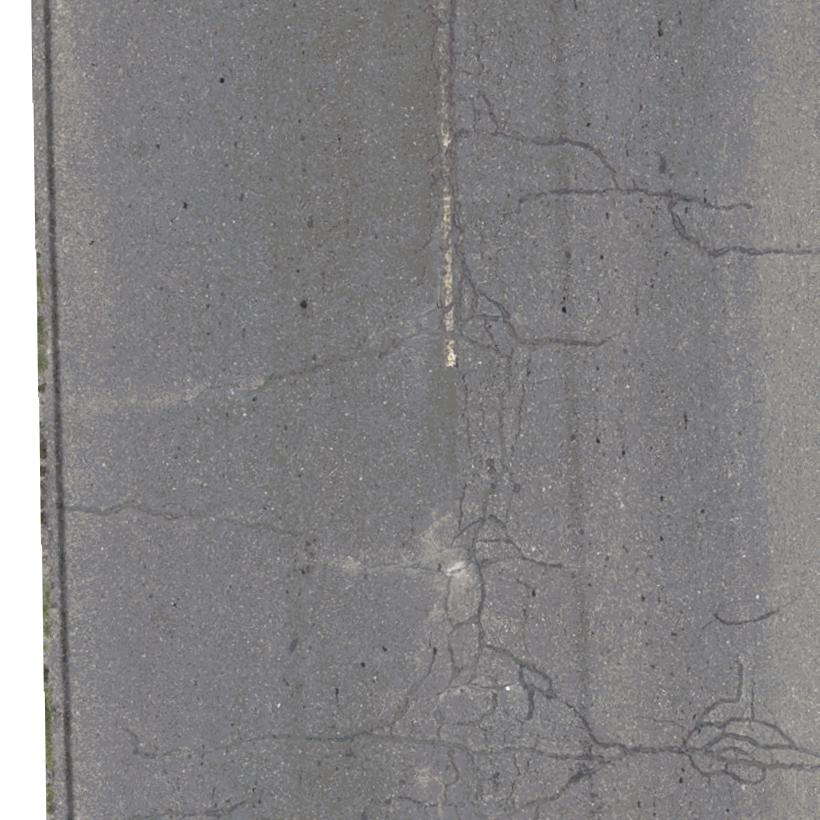GRIETA: (253, 329, 422, 393), (111, 720, 366, 760), (64, 499, 303, 538), (668, 200, 819, 260), (502, 188, 752, 220), (502, 131, 621, 188), (713, 597, 798, 626), (143, 800, 248, 819), (540, 330, 628, 348)
PIEL DE COCODRILO: (352, 273, 632, 819), (407, 0, 502, 271), (676, 667, 819, 795), (333, 493, 452, 617)
